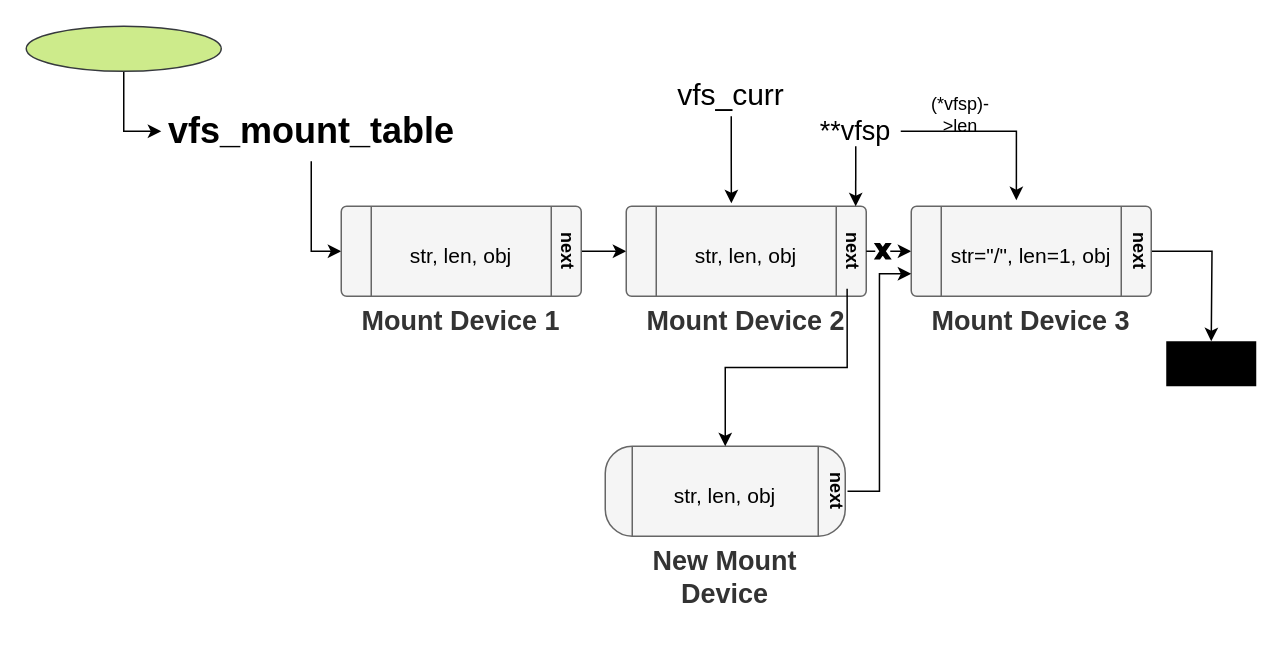
Some shapes in this 1283 by 671 pixel diagram are drawn without their labels. The shapes that lost their labels are listed below. From the top down, each one's centre as x and y in pixels, then its label:
At point 123,48: "MP_STATE_VM".
At point 1211,363: "Null".
